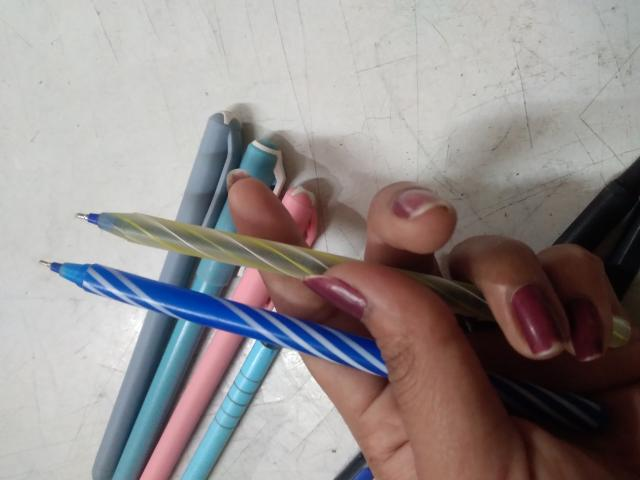PEN: (248, 94, 608, 224), (200, 211, 573, 299)
